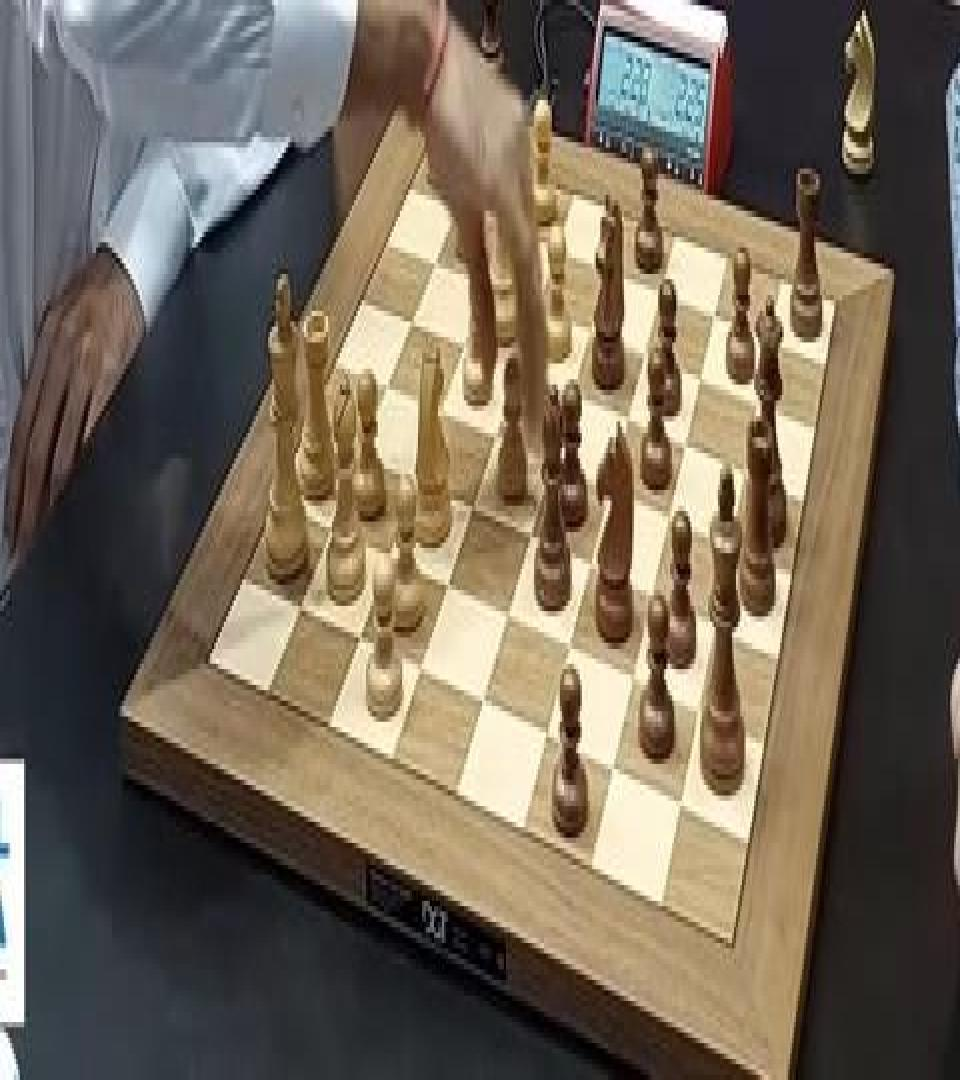xcorner: (766, 321, 776, 348), (503, 208, 513, 235), (642, 337, 652, 364), (588, 313, 598, 340), (682, 429, 692, 456), (460, 329, 470, 356), (408, 305, 418, 332), (726, 529, 736, 556), (665, 500, 675, 527), (606, 474, 616, 501), (492, 421, 502, 448), (437, 395, 447, 422), (710, 608, 720, 635), (648, 579, 658, 606), (586, 550, 596, 577), (527, 521, 537, 548), (411, 466, 421, 493), (693, 695, 703, 722), (565, 632, 575, 659), (675, 790, 685, 817), (478, 687, 488, 714), (354, 624, 364, 651), (711, 298, 721, 324), (658, 274, 668, 300), (605, 253, 615, 279), (554, 232, 564, 258), (453, 187, 463, 213), (754, 385, 764, 411), (697, 361, 707, 387), (534, 290, 544, 316), (482, 266, 492, 292), (431, 245, 441, 271), (740, 453, 750, 479), (625, 403, 635, 429), (569, 377, 579, 403), (514, 353, 524, 379), (548, 448, 558, 474), (382, 369, 392, 395), (468, 493, 478, 519), (355, 440, 365, 466), (628, 664, 638, 690), (503, 601, 513, 627), (443, 572, 453, 598), (384, 543, 394, 569), (326, 514, 336, 540), (608, 756, 618, 782), (542, 722, 552, 748), (415, 656, 425, 682), (295, 593, 305, 619)
